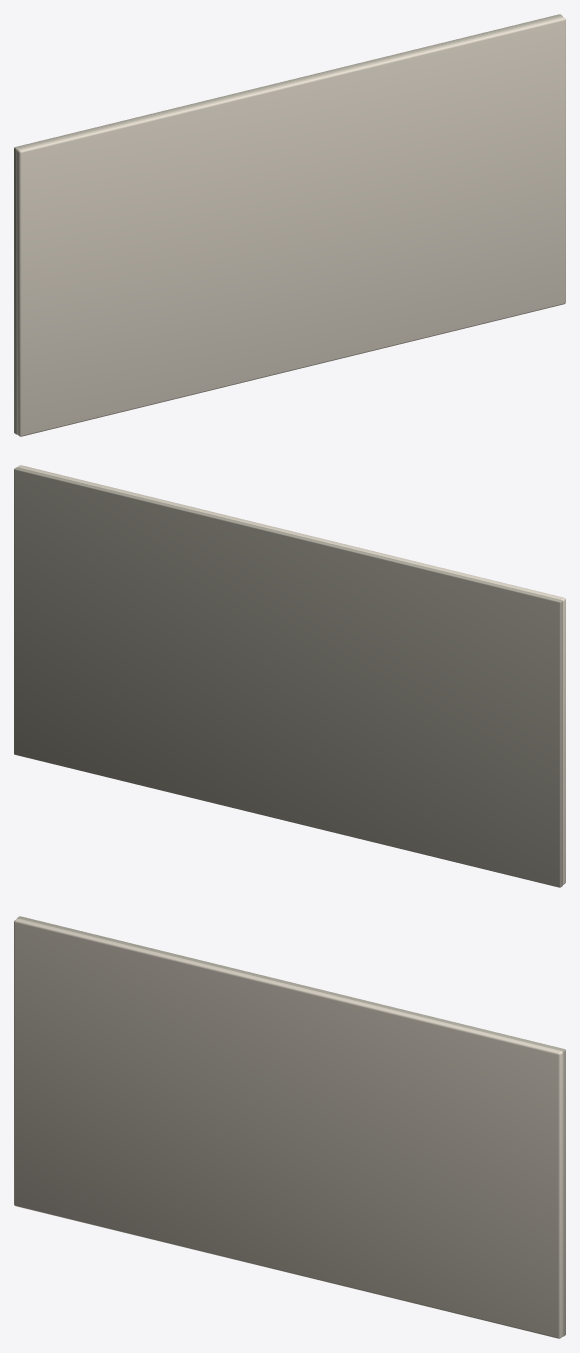
The model's file is backsplash-slab.glb.
3 renders of one model, top to bottom at view 1: azimuth 30°, elevation 25°; view 2: azimuth 150°, elevation 25°; view 3: azimuth 330°, elevation 25°, orthographic.
Parts seen in each view (by area): view 1: backsplash-slab; view 2: backsplash-slab; view 3: backsplash-slab.
Boxes of the visible parts, x1,y1,x2,y2 form: backsplash-slab: [14, 14, 565, 436]; backsplash-slab: [14, 465, 565, 887]; backsplash-slab: [14, 916, 565, 1338].
Size of the model in its own units: 1.2 by 0.6 by 0.024.
